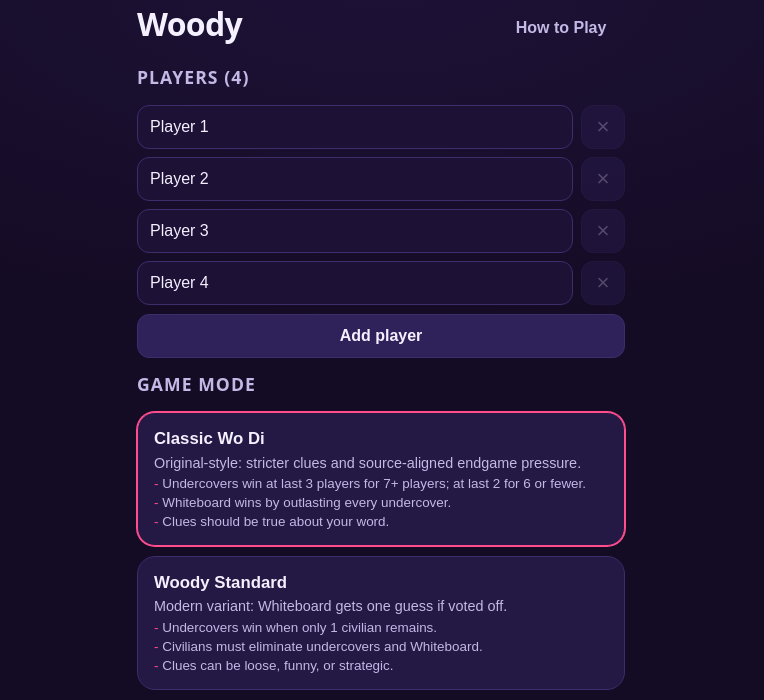
Scenario: SetupScreen › renders validation errors on start when names are duplicated
Replace the text in the field named "Player 2 name" with "Player 1" at (355, 179), box 137,157 -> 573,201
(page scrolled)
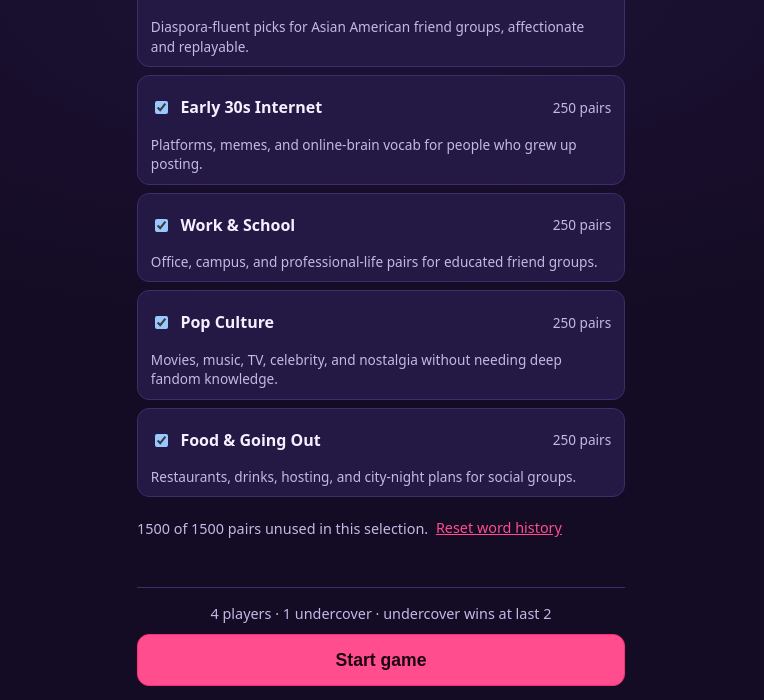
Click the button with test id "setup-start" at (381, 660), box 137,634 -> 625,686
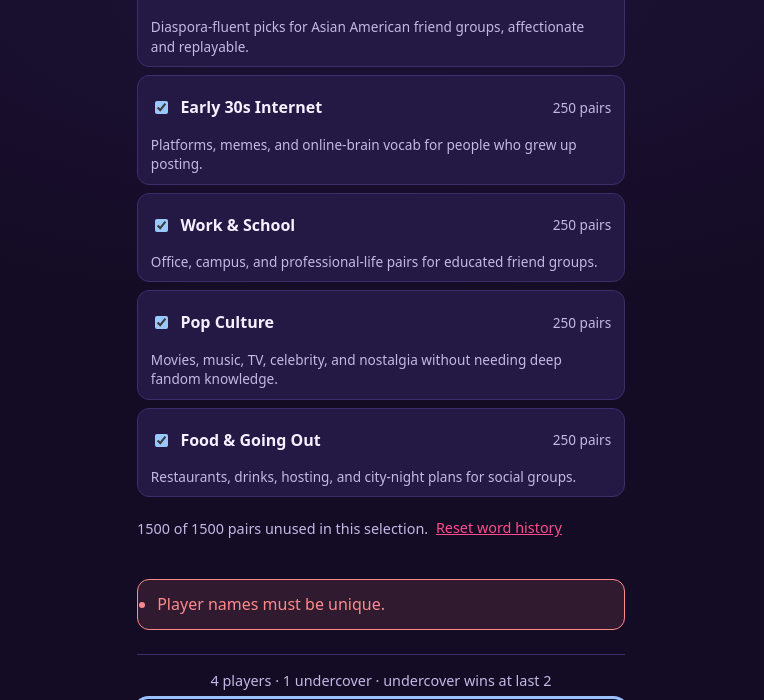
Expected: the message "Player names must be unique." is shown, 137,579 -> 625,630
